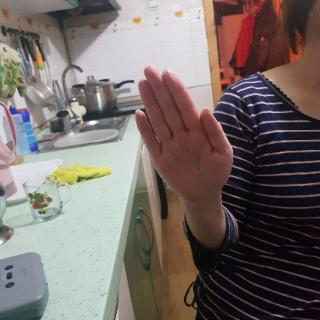SEEN: (126, 62, 236, 210)
